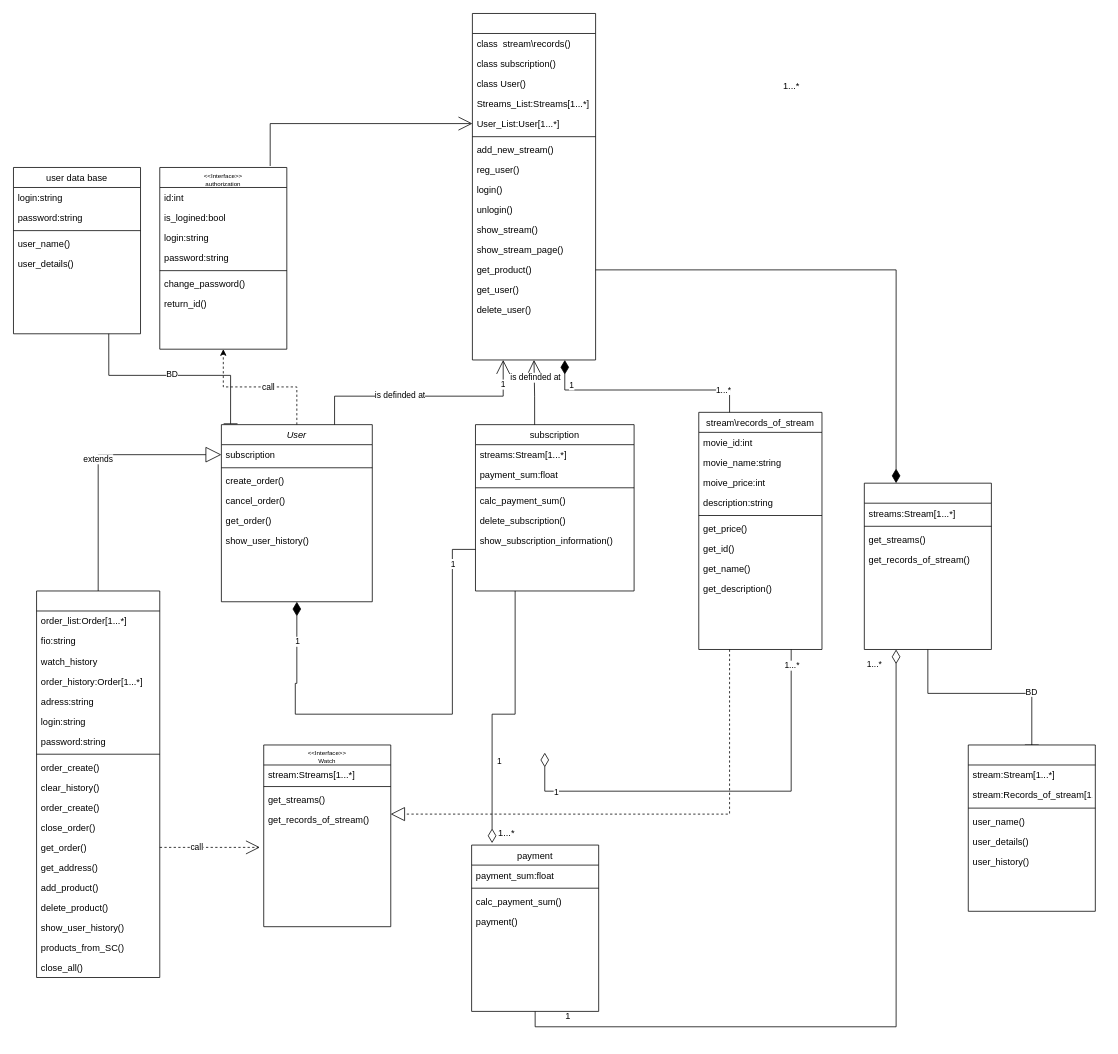
Some shapes in this 1118 by 1054 pixel diagram are drawn without their labels. Here are the shapes that lost their labels. From the top down, the box of each, then its label:
(472, 13, 596, 360): App
(864, 482, 991, 649): Server
(36, 590, 160, 978): Client
(968, 744, 1095, 911): data base
